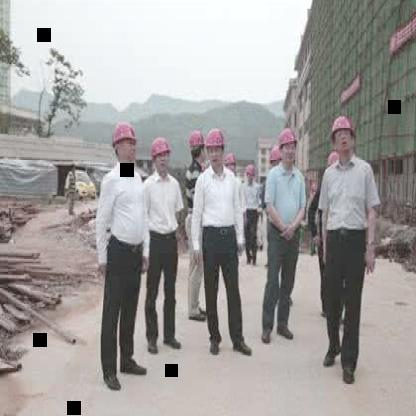helmet: (328, 112, 358, 158), (110, 120, 140, 166), (272, 124, 296, 170), (204, 126, 227, 172), (150, 136, 174, 176), (187, 131, 204, 169), (270, 146, 284, 180), (244, 162, 256, 188)
